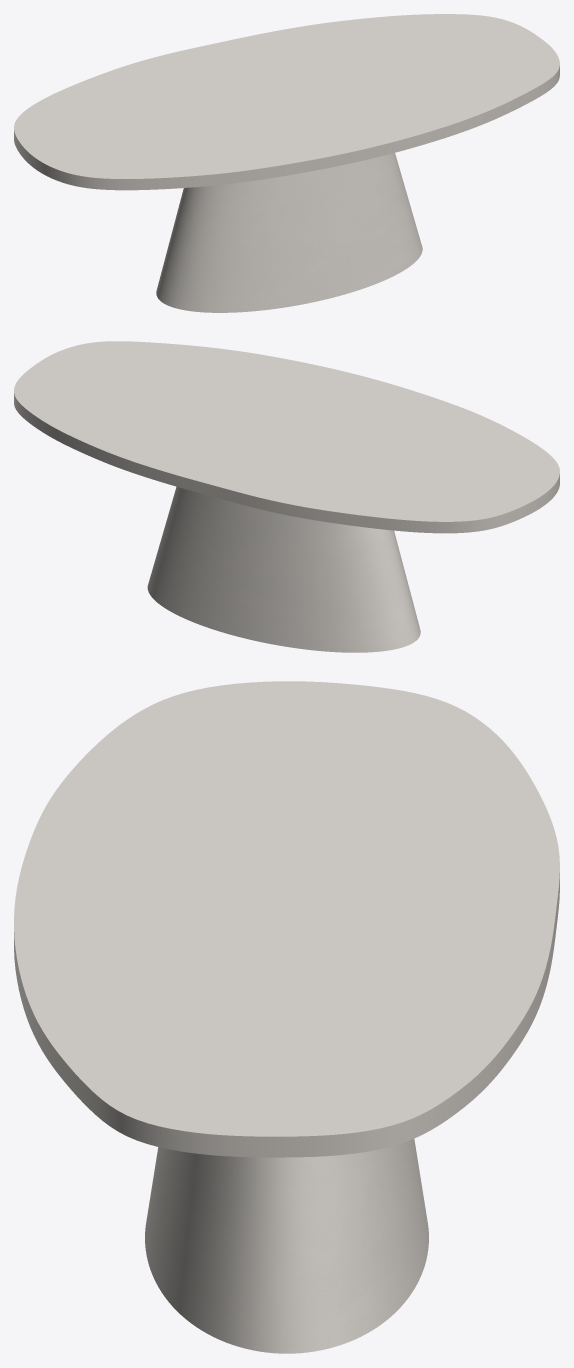
Rendered from pearlwhite_danish_standard_eqone.glb.
3 renders of one model, top to bottom at view 1: azimuth 30°, elevation 25°; view 2: azimuth 150°, elevation 25°; view 3: azimuth 270°, elevation 25°, orthographic. The views are drawn at different scales.
Visible parts, largest first — view 1: standard_danish, eqone; view 2: standard_danish, eqone; view 3: standard_danish, eqone.
Boxes of the visible parts, x1,y1,x2,y2 form: standard_danish: (14, 14, 559, 190); eqone: (156, 153, 422, 312); standard_danish: (14, 341, 559, 533); eqone: (147, 486, 420, 652); standard_danish: (14, 681, 559, 1157); eqone: (145, 1139, 428, 1353).
Bounding box in the file's own units: 7.5 × 2.5 × 3.8.
Materials: 1 (1 with a texture image).
